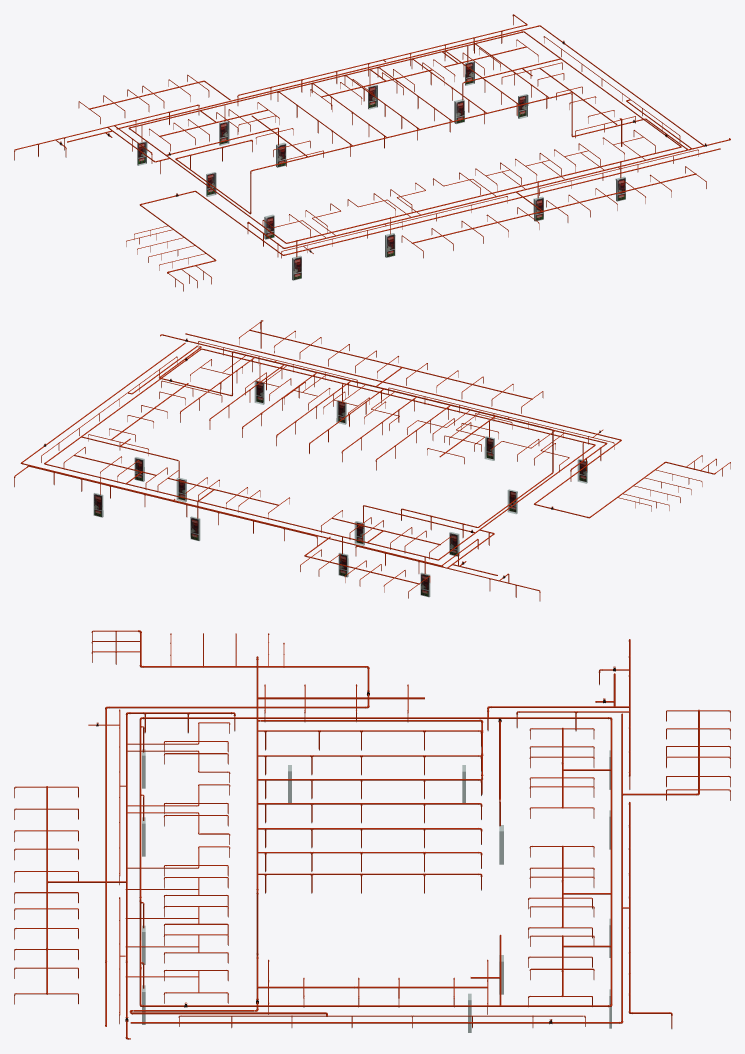
Rendered from 消防给水.glb.
3 views of the same model, one above another, from view 1: azimuth 30°, elevation 25°; view 2: azimuth 150°, elevation 25°; view 3: azimuth 270°, elevation 25° (orthographic). The views are drawn at different scales.
Visible parts, largest first — view 1: 发电机.167, 发电机.173, 发电机.180, 发电机.135, 发电机.161, 发电机.175, 发电机.182, 发电机.168, 发电机.128, 发电机.132, 发电机.181; view 2: 发电机.167, 发电机.173, 发电机.180, 发电机.161, 发电机.175, 发电机.182, 发电机.168, 发电机.181, 发电机.128, 发电机.132, 发电机.135; view 3: 发电机.173, 发电机.167, 发电机.175, 发电机.180, 发电机.128, 发电机.197, 发电机.162, 发电机.188, 发电机.168.
Boxes of the visible parts, x1,y1,x2,y2 form: 发电机.167: (128, 31, 681, 243); 发电机.173: (277, 43, 548, 156); 发电机.180: (116, 25, 703, 145); 发电机.135: (286, 139, 729, 248); 发电机.161: (285, 148, 720, 255); 发电机.175: (149, 39, 538, 151); 发电机.182: (237, 25, 525, 105); 发电机.168: (253, 92, 570, 170); 发电机.128: (401, 166, 706, 258); 发电机.132: (411, 173, 696, 243); 发电机.181: (14, 104, 199, 163); 发电机.167: (44, 348, 595, 560); 发电机.173: (180, 357, 451, 470); 发电机.180: (20, 343, 443, 566); 发电机.161: (185, 333, 619, 440); 发电机.175: (63, 447, 451, 559); 发电机.182: (30, 466, 317, 545); 发电机.168: (234, 351, 550, 429); 发电机.181: (355, 539, 540, 601); 发电机.128: (239, 322, 543, 413); 发电机.132: (249, 329, 532, 399); 发电机.135: (163, 334, 604, 443); 发电机.173: (258, 730, 482, 893); 发电机.167: (139, 717, 612, 1007); 发电机.175: (528, 728, 594, 1007); 发电机.180: (130, 713, 623, 1023); 发电机.128: (14, 786, 78, 1004); 发电机.197: (178, 1015, 585, 1026); 发电机.162: (105, 706, 365, 708); 发电机.188: (666, 710, 730, 800); 发电机.168: (256, 657, 258, 888).
Size of the model in its own units: 5.53 by 0.7825 by 4.1.
Materials: 6 (1 with a texture image).
